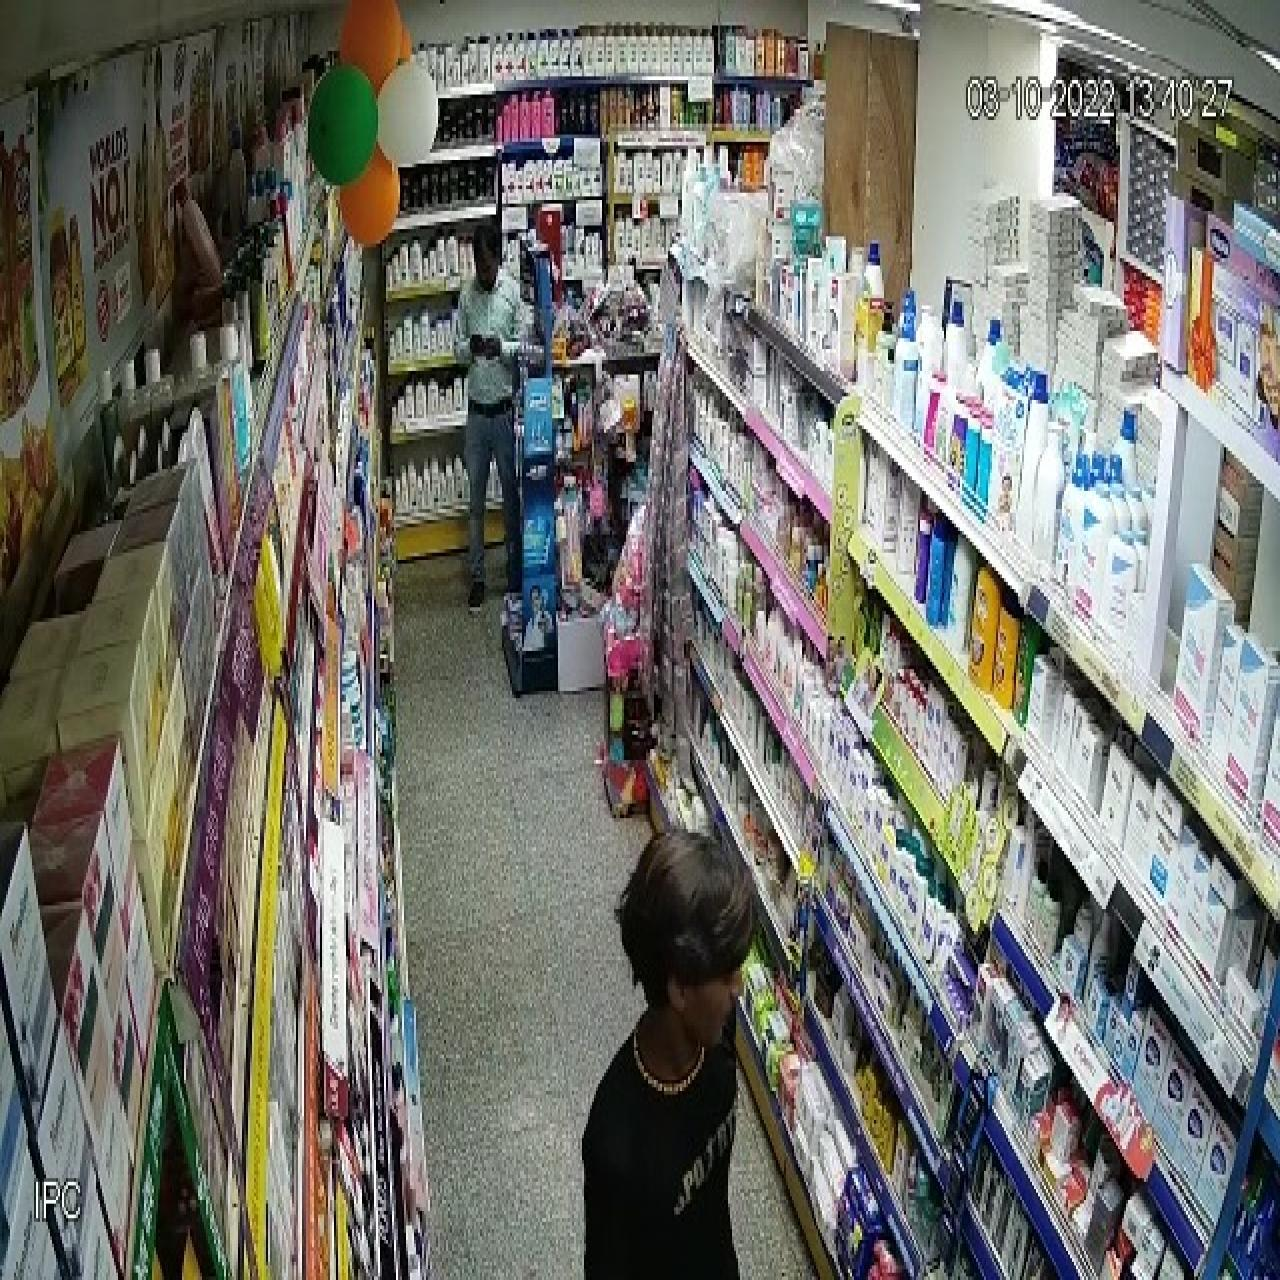normal: (554, 824, 828, 1280)
